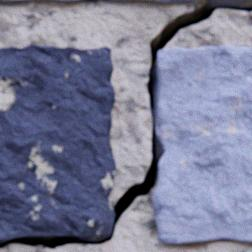brick: (0, 45, 115, 242), (152, 46, 251, 244), (99, 0, 239, 6), (0, 0, 89, 4)
crack: (0, 0, 251, 250)
